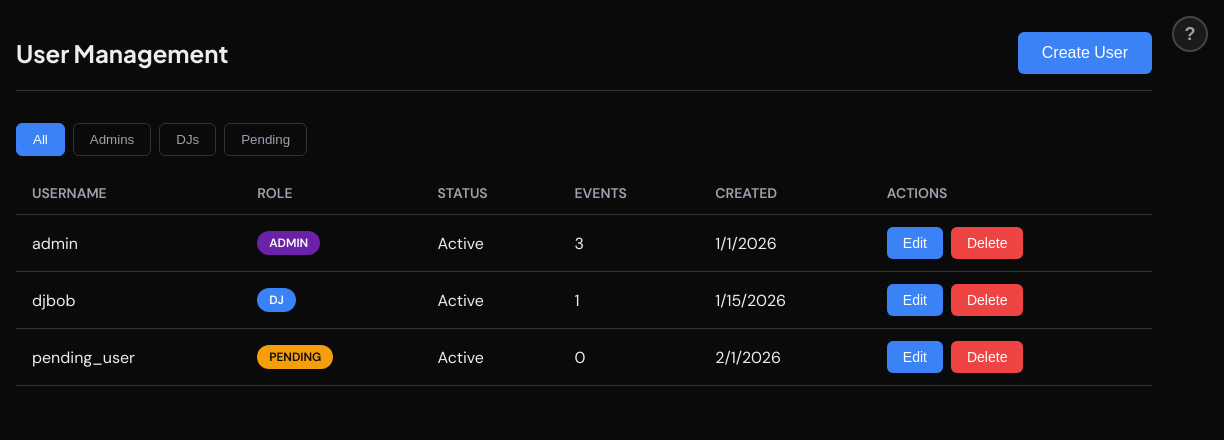
AdminUsersPage › shows delete error
The image size is (1224, 440).
expect the text "djbob" is shown: met, box [16, 272, 241, 328]
What coordinates should you click on to do the following:
click the button "Delete" in the row of "1/1/2026"
I would click on:
 (987, 243)
Its box is [951, 227, 1024, 259].
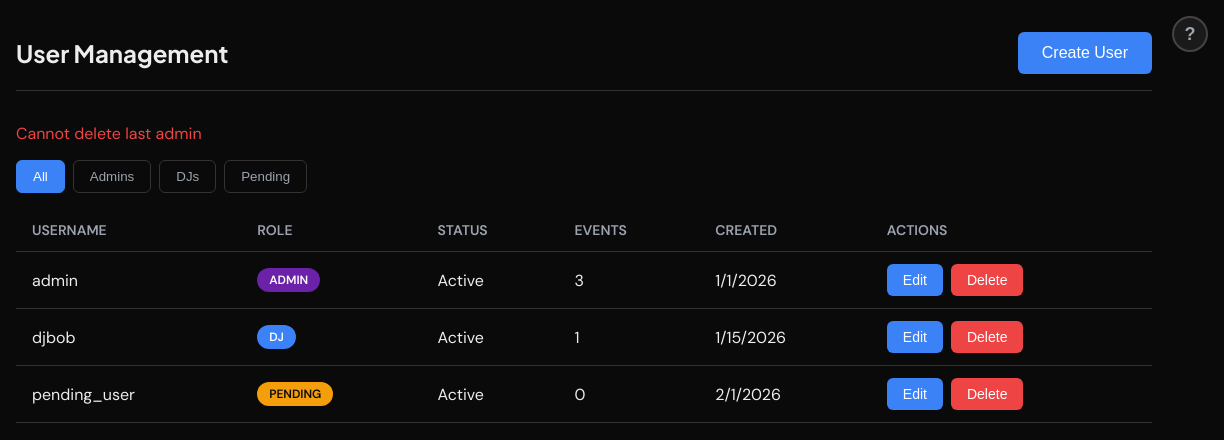
expect the text "Cannot delete last admin" is shown: met, box [16, 123, 202, 144]
